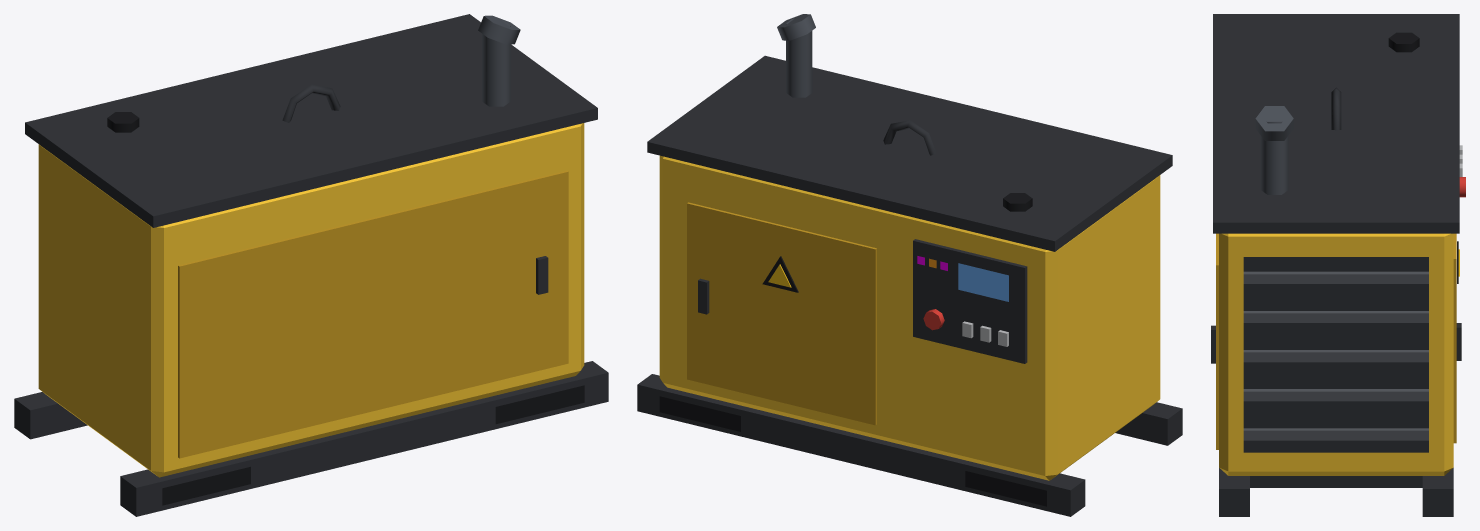
Rendered from prop_generator.glb.
3 renders of one model, left to right at view 1: azimuth 30°, elevation 25°; view 2: azimuth 150°, elevation 25°; view 3: azimuth 270°, elevation 25°, orthographic. The views are drawn at different scales.
Visible parts, largest first — view 1: prop_generator__mesh; view 2: prop_generator__mesh; view 3: prop_generator__mesh.
Boxes of the visible parts, x1,y1,x2,y2 form: prop_generator__mesh: (14,14,608,516); prop_generator__mesh: (637,14,1182,516); prop_generator__mesh: (1211,14,1465,516).
Bounding box in the file's own units: 1.7 × 1.32 × 0.826.
1 material, 1 textured.
